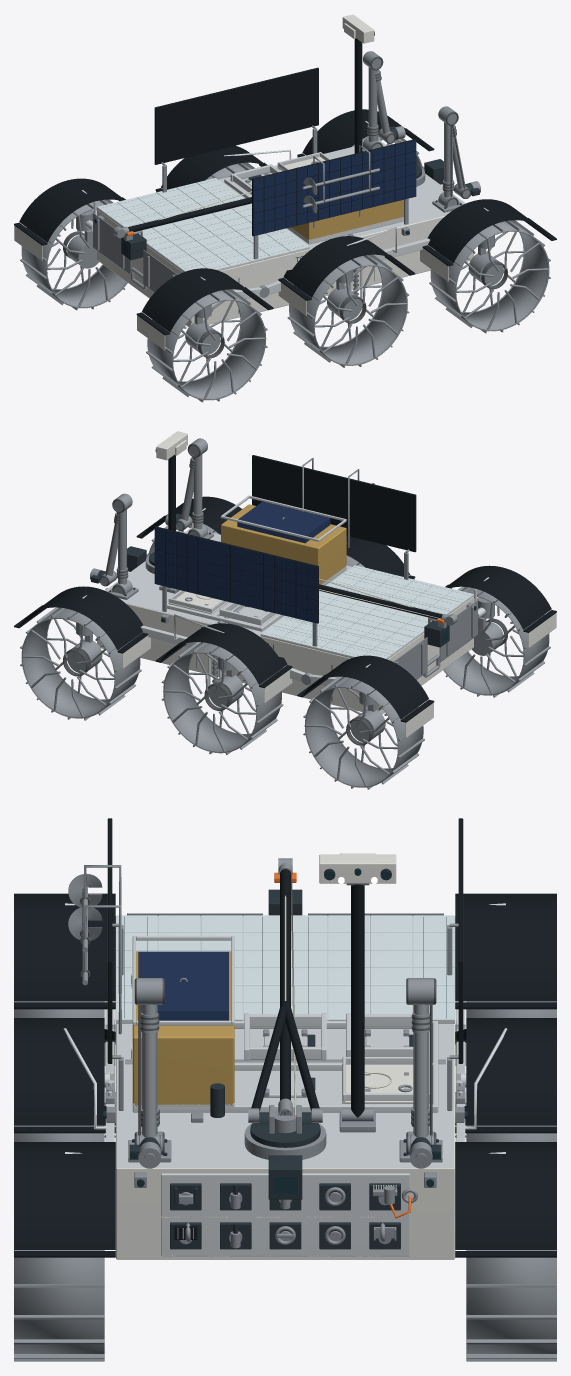
Rendered from TSR1_engineering.fbx.
3 views of the same model, one above another, from view 1: azimuth 30°, elevation 25°; view 2: azimuth 150°, elevation 25°; view 3: azimuth 270°, elevation 25° (orthographic). The views are drawn at different scales.
Parts seen in each view (by area): view 1: TRAVERSE_solar_array_L, TRAVERSE_chassis_torque_box, TRAVERSE_wheel_rim_FR, TRAVERSE_wheel_rim_MR, TRAVERSE_wheel_rim_RR, TRAVERSE_fender_RR, TRAVERSE_fender_FR, TRAVERSE_fender_RL, TRAVERSE_fender_MR, TRAVERSE_wheel_rim_RL, TRAVERSE_solar_array_R, TRAVERSE_deck_structural_face (+14 smaller); view 2: TRAVERSE_solar_array_R, TRAVERSE_chassis_torque_box, TRAVERSE_wheel_rim_ML, TRAVERSE_wheel_rim_FL, TRAVERSE_wheel_rim_RL, TRAVERSE_MOD_KA_stowed_envelope, TRAVERSE_fender_RL, TRAVERSE_fender_FL, TRAVERSE_fender_RR, TRAVERSE_fender_ML, TRAVERSE_wheel_rim_RR, TRAVERSE_solar_array_L (+24 smaller); view 3: TRAVERSE_deck_structural_face, TRAVERSE_front_face_open_holster_backplate, TRAVERSE_chassis_torque_box, TRAVERSE_fender_FL, TRAVERSE_fender_FR, TRAVERSE_fender_RL, TRAVERSE_fender_ML, TRAVERSE_fender_MR, TRAVERSE_fender_RR, TRAVERSE_wheel_rim_FL, TRAVERSE_wheel_rim_FR, TRAVERSE_MOD_KA_stowed_envelope (+52 smaller).
Part boxes in pixels (x1,y1,x2,y2): TRAVERSE_solar_array_L: (154,67,318,164); TRAVERSE_chassis_torque_box: (97,209,473,326); TRAVERSE_wheel_rim_FR: (430,220,549,331); TRAVERSE_wheel_rim_MR: (289,255,407,365); TRAVERSE_wheel_rim_RR: (147,289,266,400); TRAVERSE_fender_RR: (142,268,267,331); TRAVERSE_fender_FR: (427,199,551,262); TRAVERSE_fender_RL: (19,178,124,242); TRAVERSE_fender_MR: (283,236,409,297); TRAVERSE_wheel_rim_RL: (21,199,127,308); TRAVERSE_solar_array_R: (252,139,416,235); TRAVERSE_deck_structural_face: (219,140,465,248); TRAVERSE_solar_array_R: (252,455,416,552); TRAVERSE_chassis_torque_box: (97,597,473,714); TRAVERSE_wheel_rim_ML: (163,642,281,753); TRAVERSE_wheel_rim_FL: (21,607,140,718); TRAVERSE_wheel_rim_RL: (304,676,423,787); TRAVERSE_MOD_KA_stowed_envelope: (221,504,346,584); TRAVERSE_fender_RL: (302,655,428,719); TRAVERSE_fender_FL: (19,586,143,650); TRAVERSE_fender_RR: (446,565,551,629); TRAVERSE_fender_ML: (161,623,287,684); TRAVERSE_wheel_rim_RR: (443,587,549,695); TRAVERSE_solar_array_L: (154,526,318,623); TRAVERSE_deck_structural_face: (117,1024,453,1167); TRAVERSE_front_face_open_holster_backplate: (161,1173,409,1256); TRAVERSE_chassis_torque_box: (115,1024,455,1259); TRAVERSE_fender_FL: (455,1142,556,1249); TRAVERSE_fender_FR: (14,1142,115,1249); TRAVERSE_fender_RL: (455,893,556,1001); TRAVERSE_fender_ML: (455,1018,556,1125); TRAVERSE_fender_MR: (14,1018,115,1125); TRAVERSE_fender_RR: (14,893,115,1001); TRAVERSE_wheel_rim_FL: (466,1257,556,1353); TRAVERSE_wheel_rim_FR: (14,1257,104,1353); TRAVERSE_MOD_KA_stowed_envelope: (132,951,234,1105).
Size of the model in its own units: 360 by 220 by 240.
